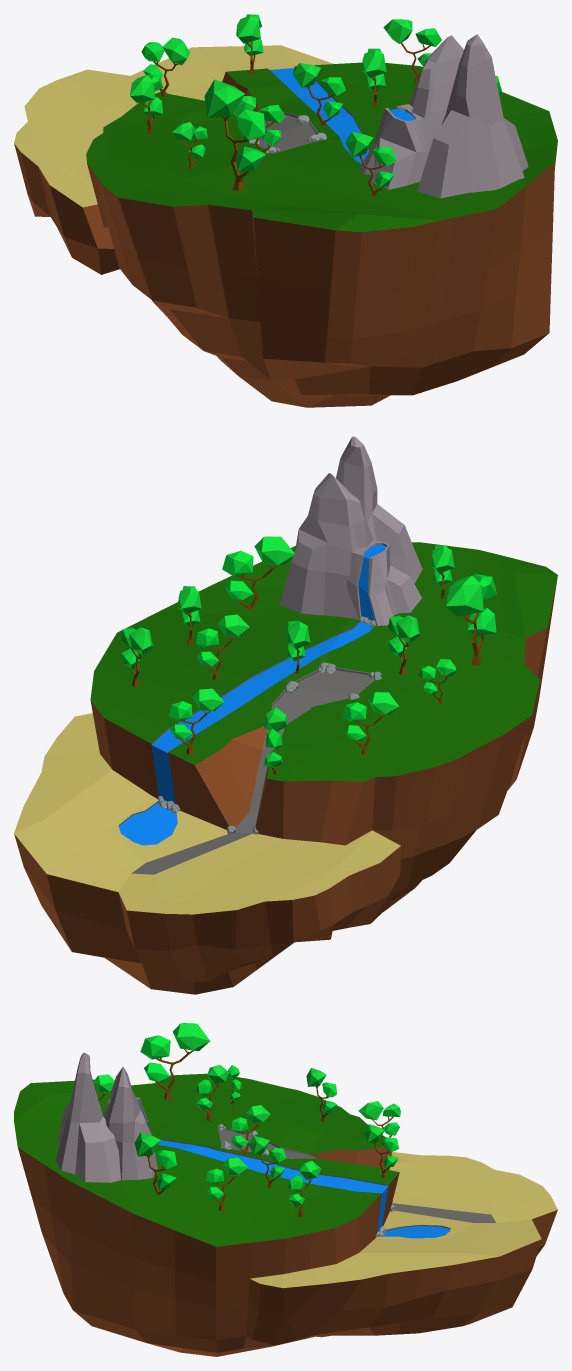
The model's file is ilha.fbx.
3 renders of one model, top to bottom at view 1: azimuth 30°, elevation 25°; view 2: azimuth 150°, elevation 25°; view 3: azimuth 270°, elevation 25°, orthographic. The views are drawn at different scales.
Parts seen in each view (by area): view 1: Cube; view 2: Cube; view 3: Cube.
Boxes of the visible parts, x1,y1,x2,y2 form: Cube: (14,14,557,407); Cube: (14,436,557,994); Cube: (14,1023,557,1356).
Size of the model in its own units: 312 by 289 by 450.
